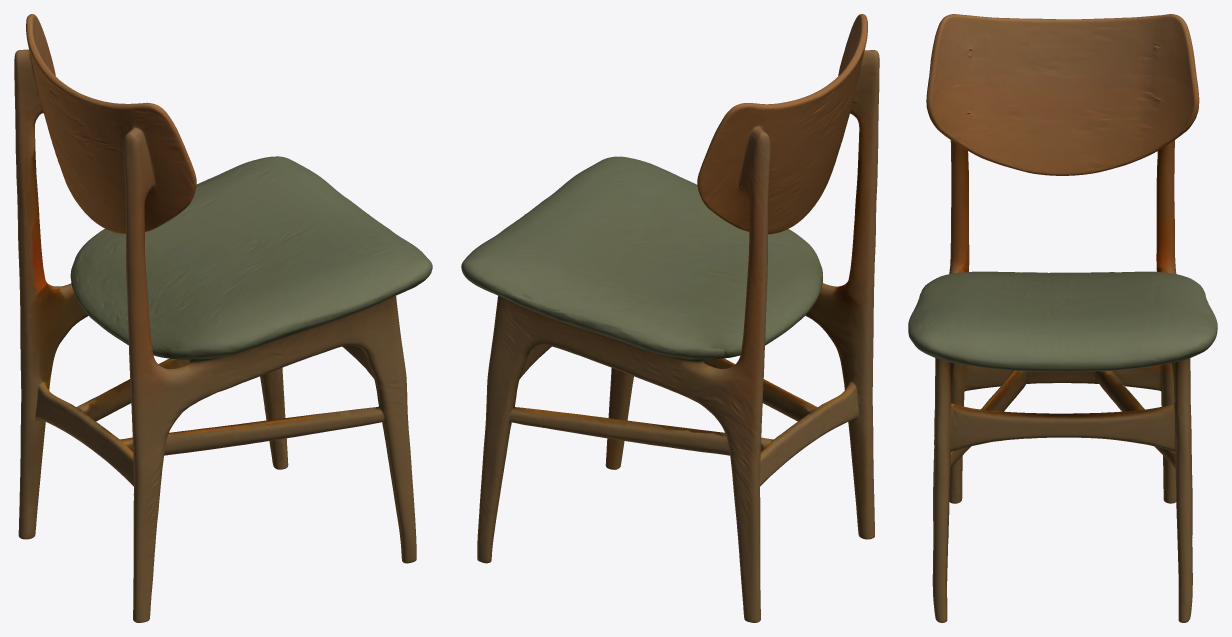
Rendered from yellowchair.glb.
3 views of the same model, side by side, from view 1: azimuth 30°, elevation 25°; view 2: azimuth 150°, elevation 25°; view 3: azimuth 270°, elevation 25° (orthographic). The views are drawn at different scales.
Visible parts, largest first — view 1: tripo_node_53bce0e6; view 2: tripo_node_53bce0e6; view 3: tripo_node_53bce0e6.
Part boxes in pixels (x1,y1,x2,y2): tripo_node_53bce0e6: [14, 14, 432, 622]; tripo_node_53bce0e6: [461, 14, 879, 622]; tripo_node_53bce0e6: [908, 14, 1217, 622].
Size of the model in its own units: 0.51 by 0.8 by 0.46.
Materials: 1 (1 with a texture image).
